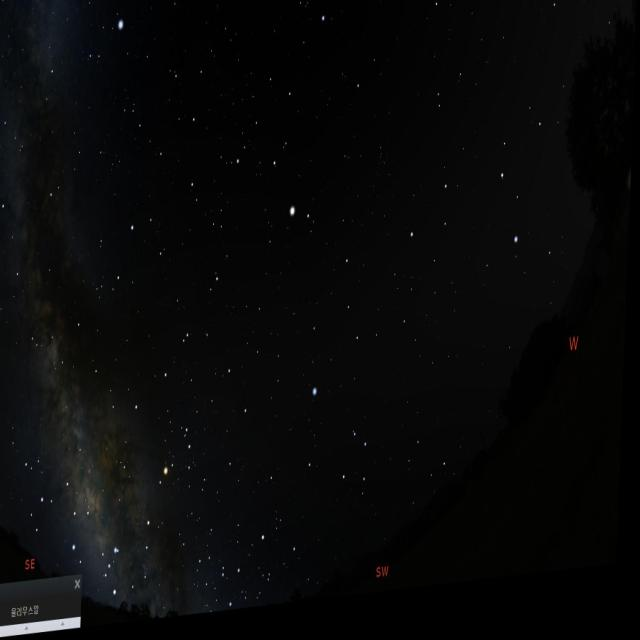bootes: (239, 66, 331, 263)
leo: (403, 115, 551, 308)
lyra: (80, 13, 128, 78)
scorpius: (102, 412, 206, 610)
